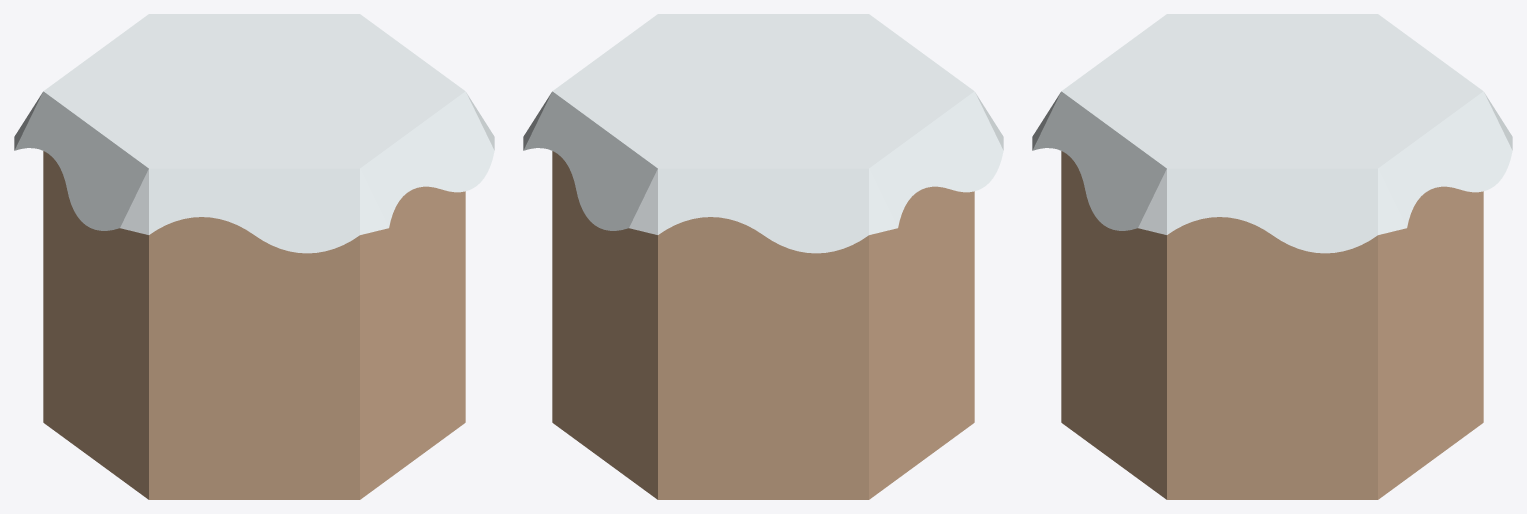
3 views of the same model, side by side, from view 1: azimuth 30°, elevation 25°; view 2: azimuth 150°, elevation 25°; view 3: azimuth 270°, elevation 25° (orthographic).
Visible parts, largest first — view 1: blockSnowHexagon; view 2: blockSnowHexagon; view 3: blockSnowHexagon.
Boxes of the visible parts, x1,y1,x2,y2 form: blockSnowHexagon: [14, 14, 494, 499]; blockSnowHexagon: [523, 14, 1003, 499]; blockSnowHexagon: [1032, 14, 1512, 499].
Size of the model in its own units: 1.23 by 1 by 1.31.
